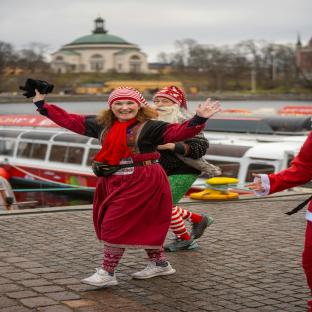Human: (33, 87, 221, 286)
